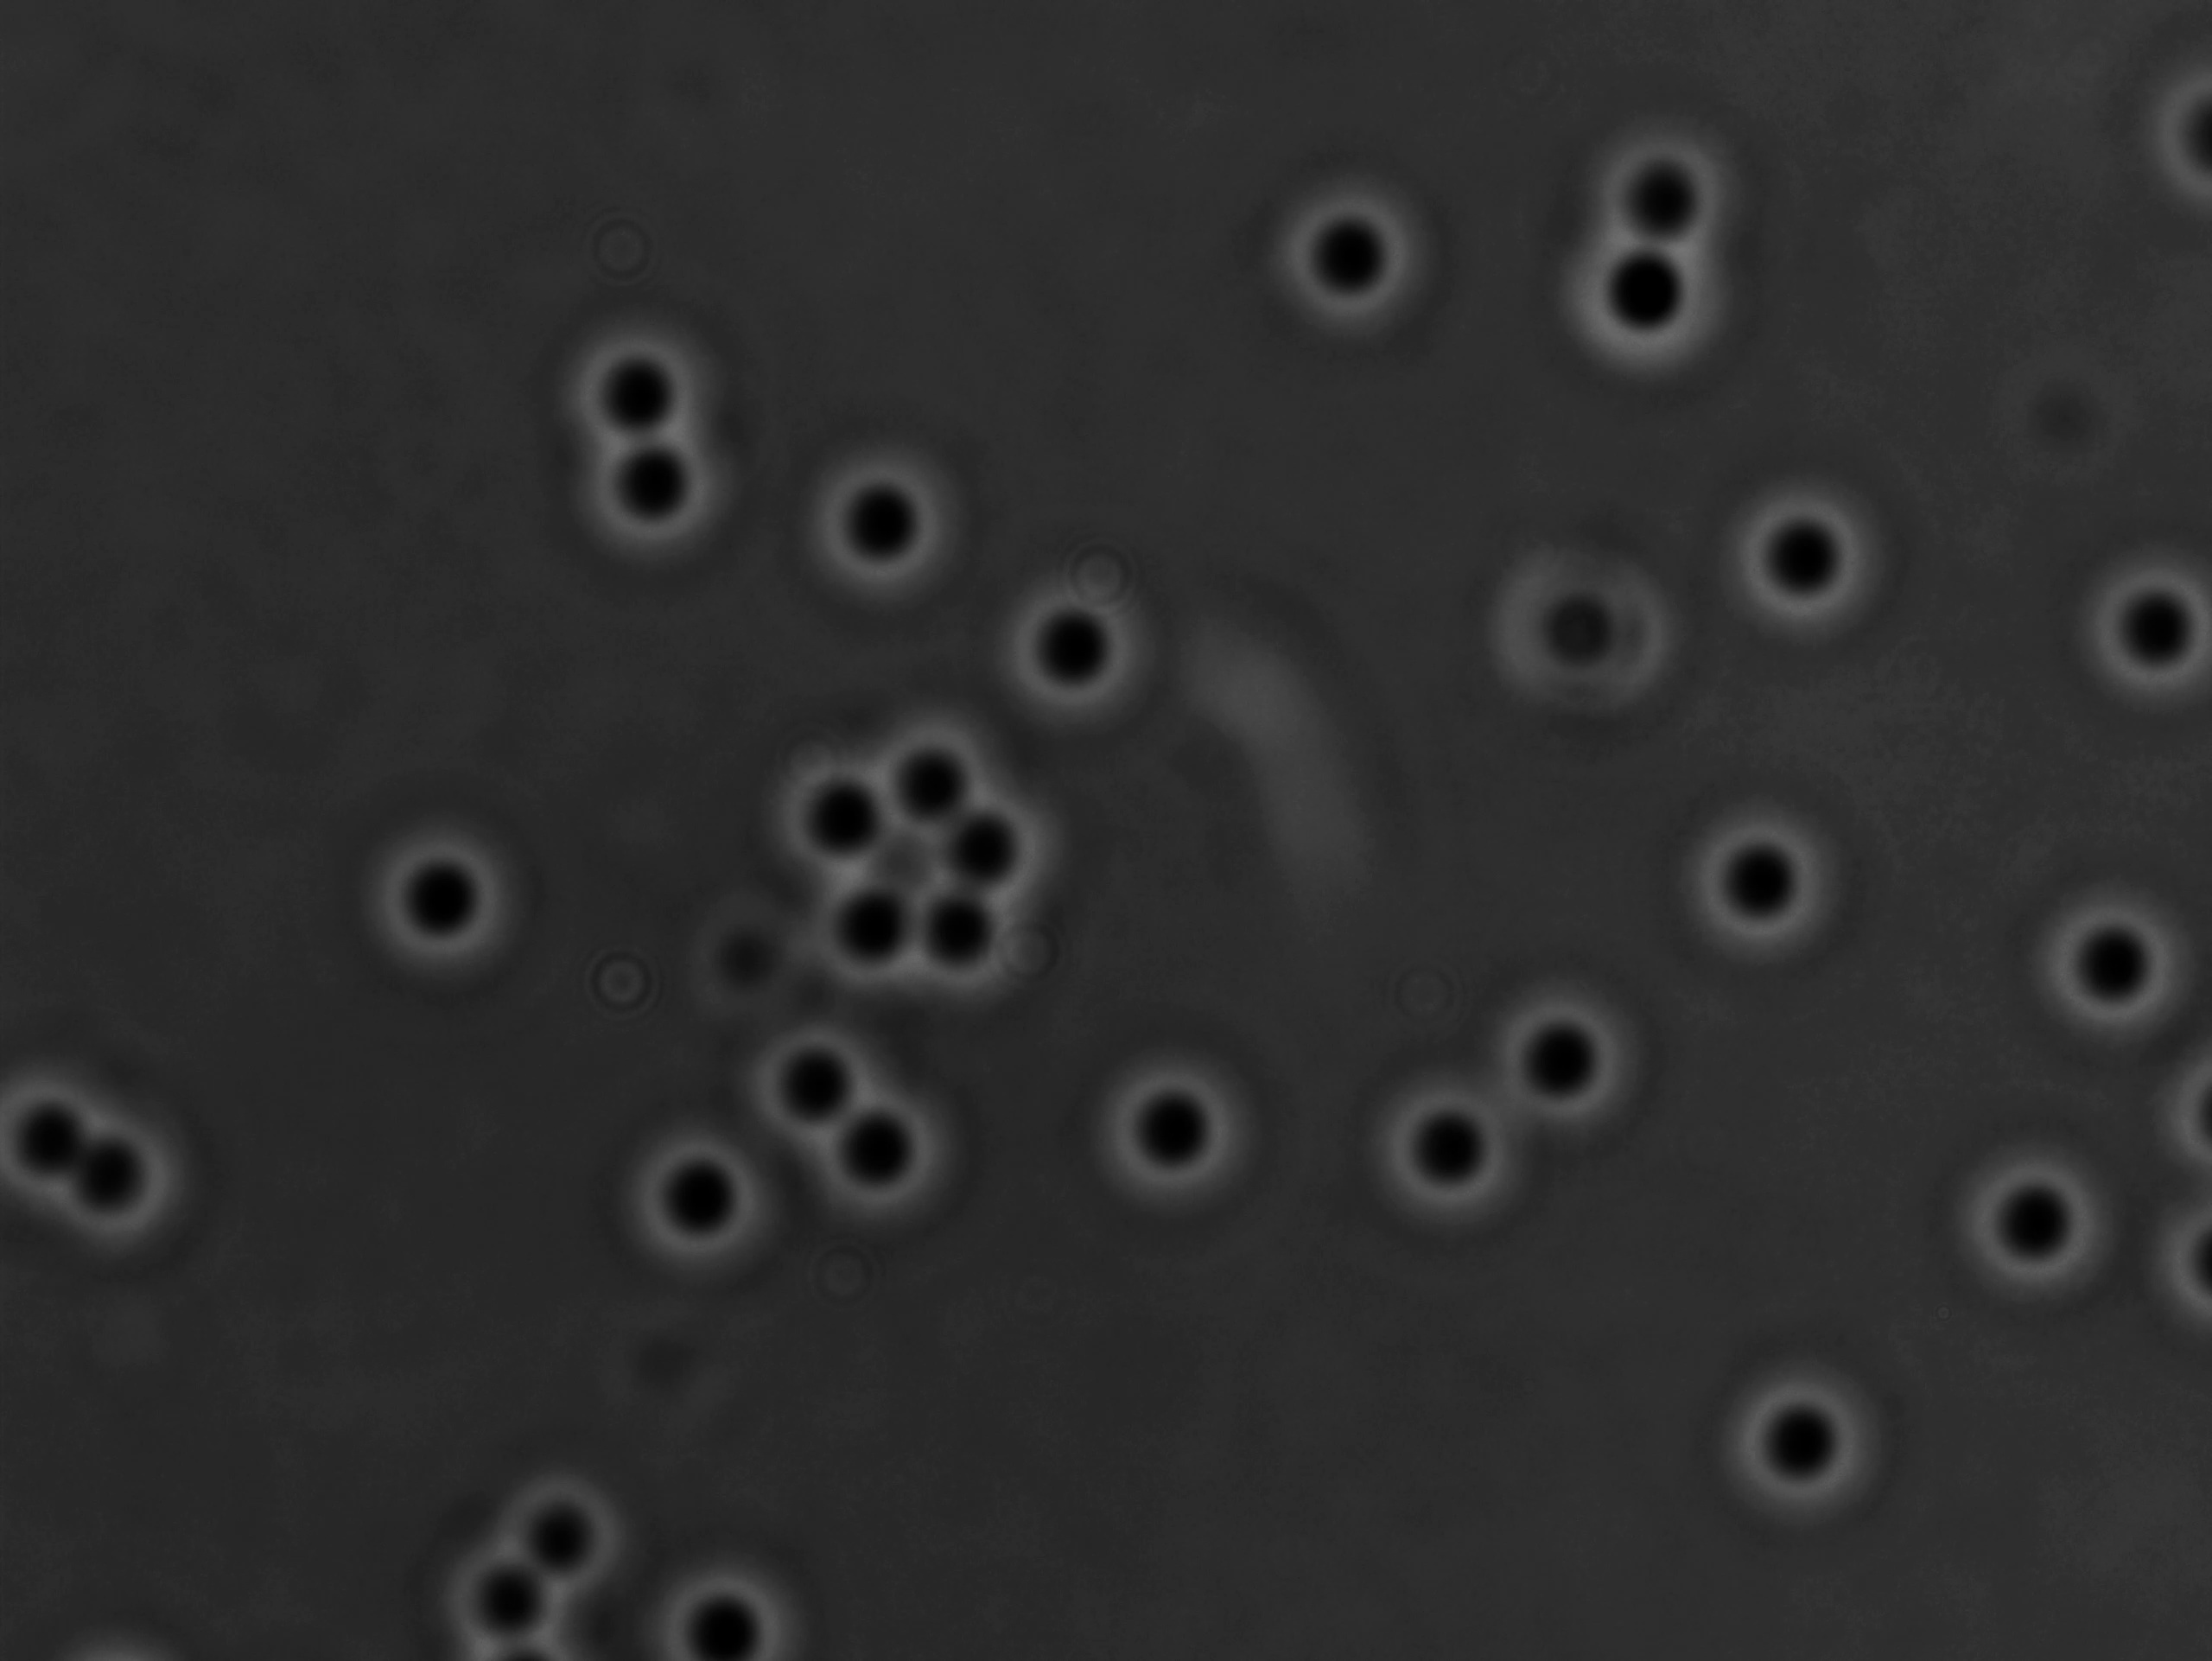depth:-80: (544, 291, 745, 482), (790, 433, 993, 621), (1664, 790, 1861, 977), (2027, 867, 2212, 1059), (806, 1047, 989, 1241), (1708, 1345, 1898, 1527), (1935, 1139, 2128, 1317), (1094, 1036, 1282, 1218), (984, 564, 1169, 743), (1359, 1052, 1546, 1230), (719, 989, 900, 1171), (607, 1106, 794, 1282), (1722, 471, 1905, 649), (354, 817, 539, 993), (562, 412, 747, 579), (1560, 213, 1738, 384), (1270, 173, 1444, 344), (1476, 968, 1650, 1139), (1594, 96, 1767, 263), (2065, 544, 2212, 736)
